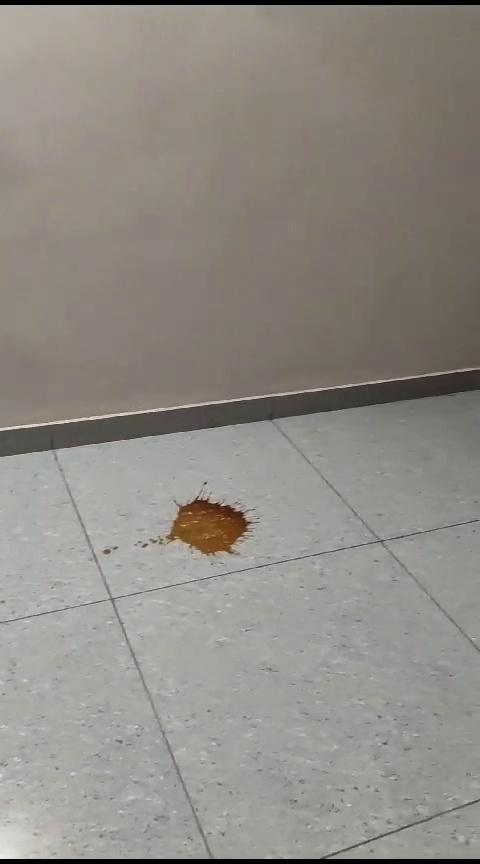dirty_floor: (105, 495, 277, 560)
